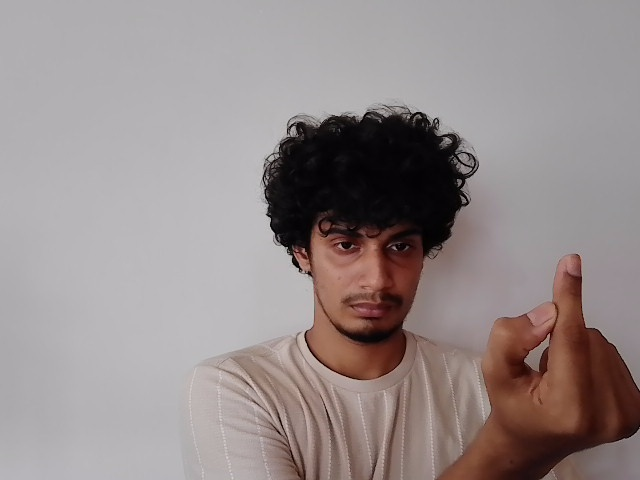just: (478, 253, 640, 440)
